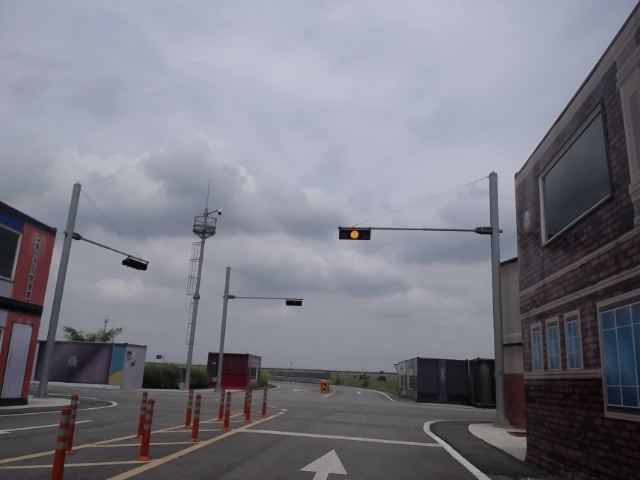orange_3: (338, 227, 371, 241)
